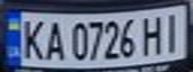0: (66, 18, 87, 61)
2: (103, 17, 124, 61)
6: (118, 15, 142, 58)
7: (84, 18, 106, 61)
A: (39, 17, 69, 62)
H: (139, 11, 166, 56)
I: (157, 9, 187, 54)
K: (15, 16, 48, 62)
